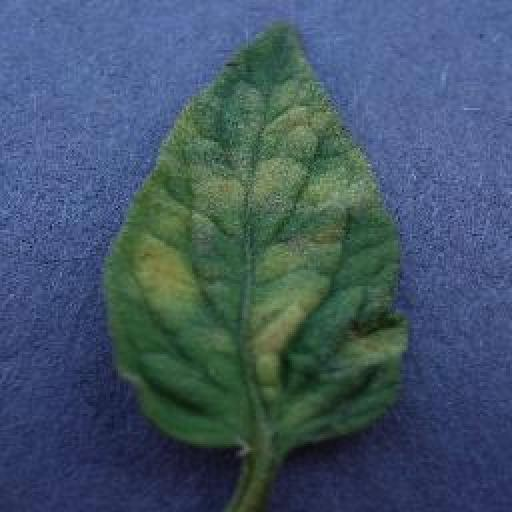disease_tomato: (102, 22, 410, 454)
